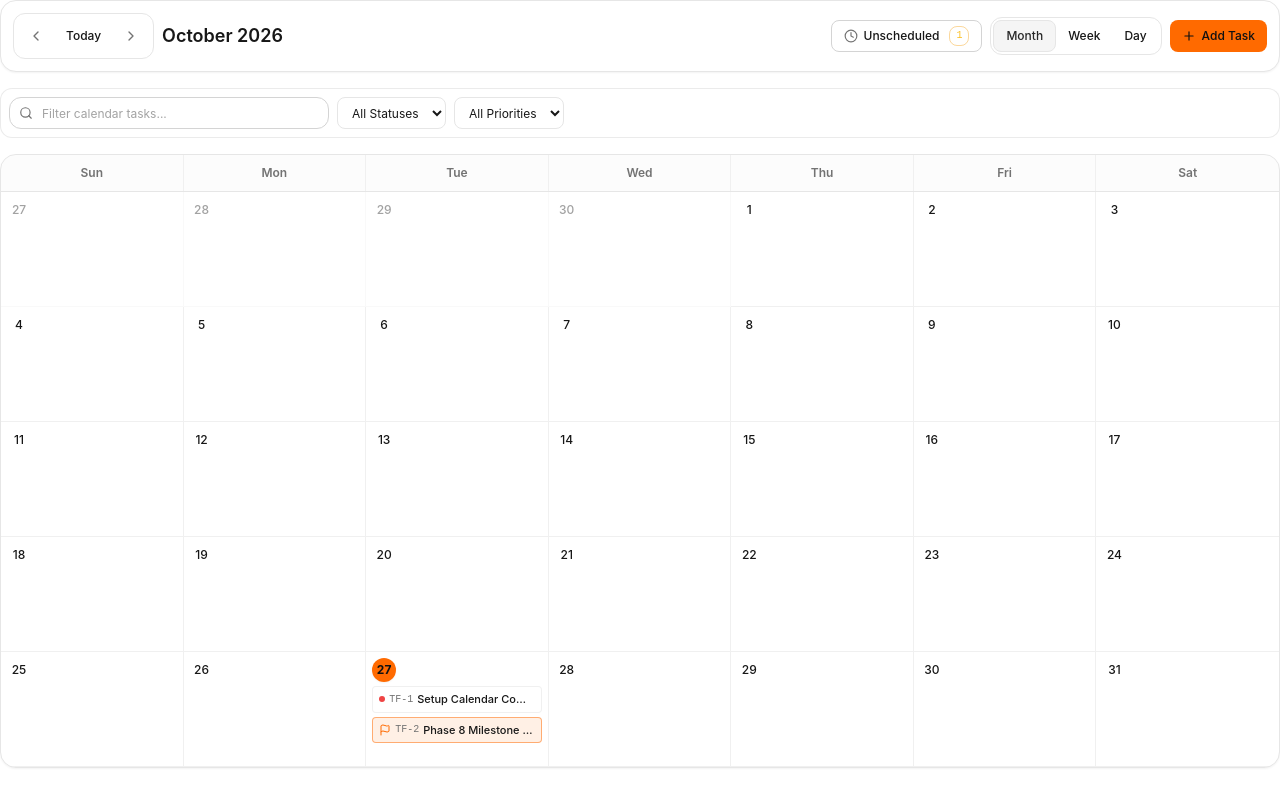
CalendarView Component › switches between Month, Week, and Day views
Note: Switch to Week view
Click the button "Week": [1084, 36] box [1056, 20, 1112, 52]
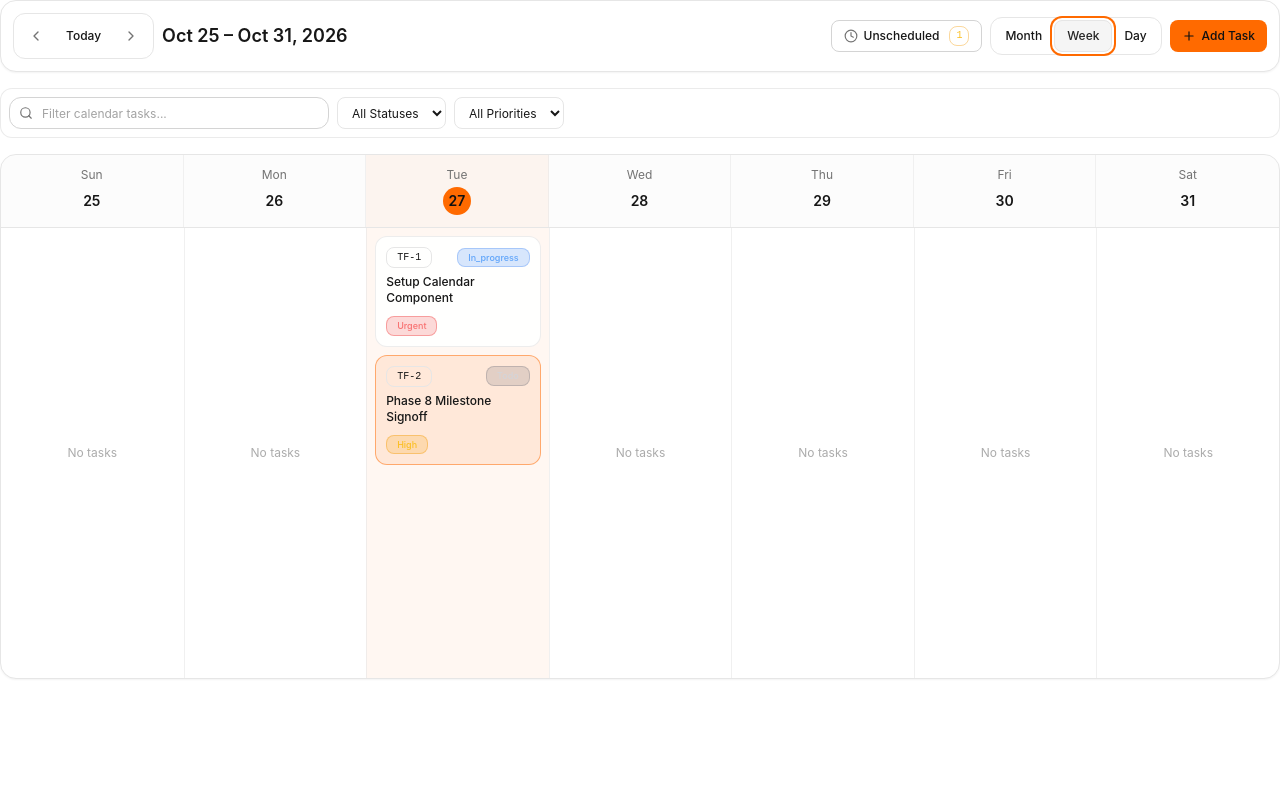
Check: the text "Setup Calendar Component" is shown, box [386, 274, 475, 305]
Note: Switch to Day view
Click the button "Day": [1136, 36] box [1112, 20, 1159, 52]
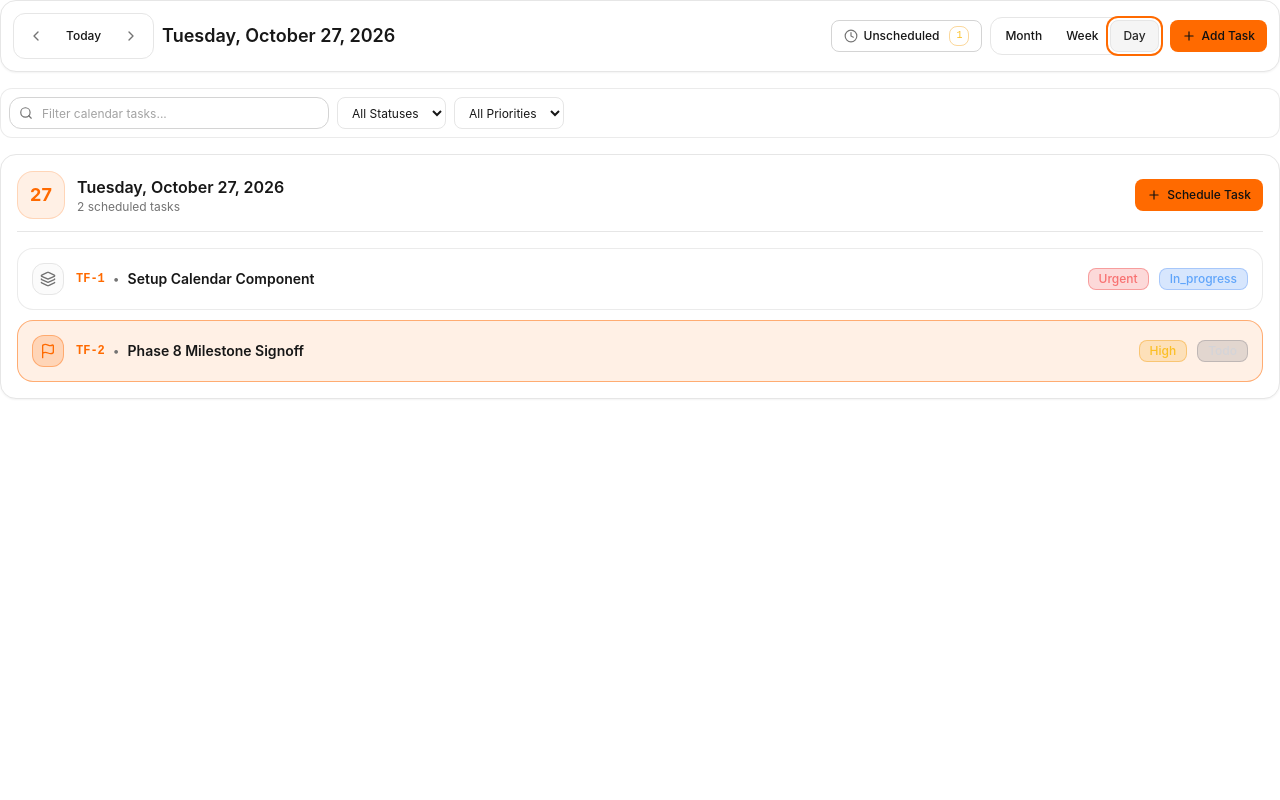
Check: the text "Schedule Task" is shown, box [1167, 187, 1251, 203]
Note: Switch back to Month view
Click the button "Month": [1024, 36] box [993, 20, 1054, 52]
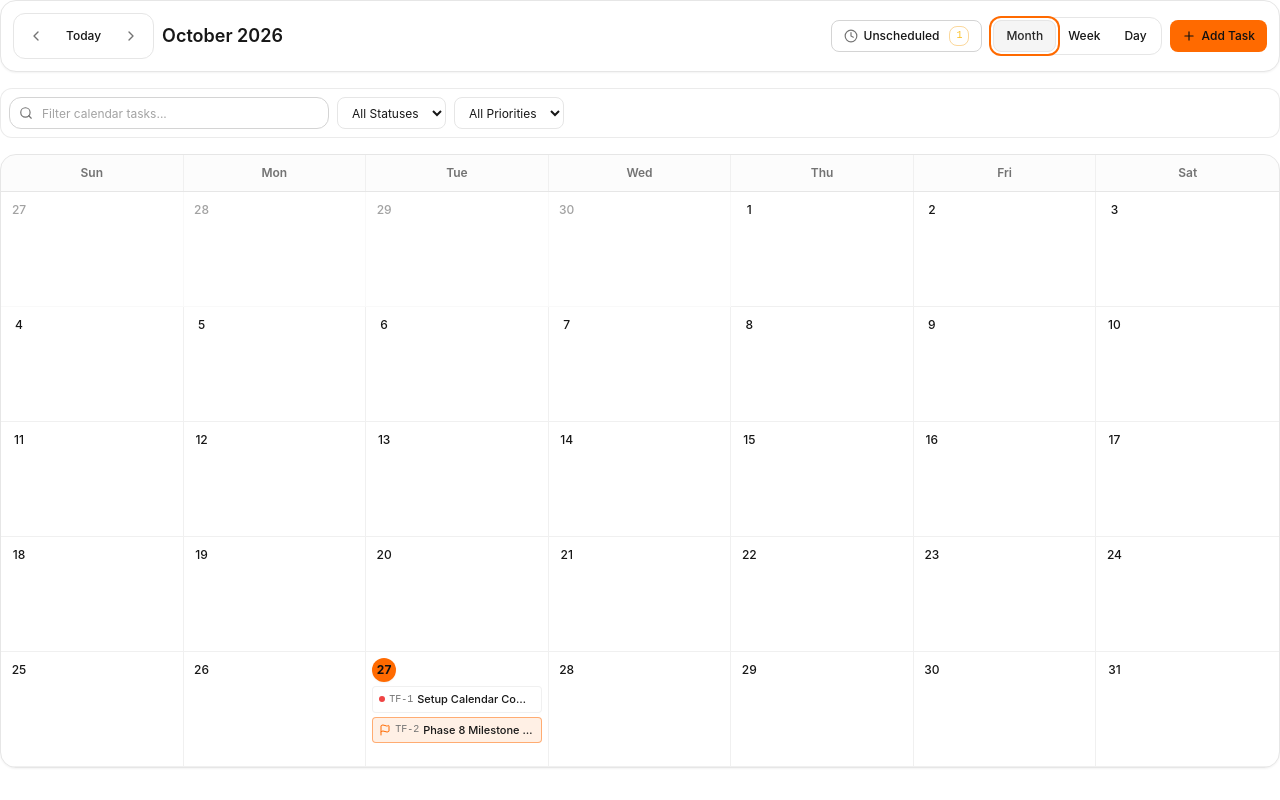
Check: the text "Sun" is shown, box [1, 155, 184, 191]
